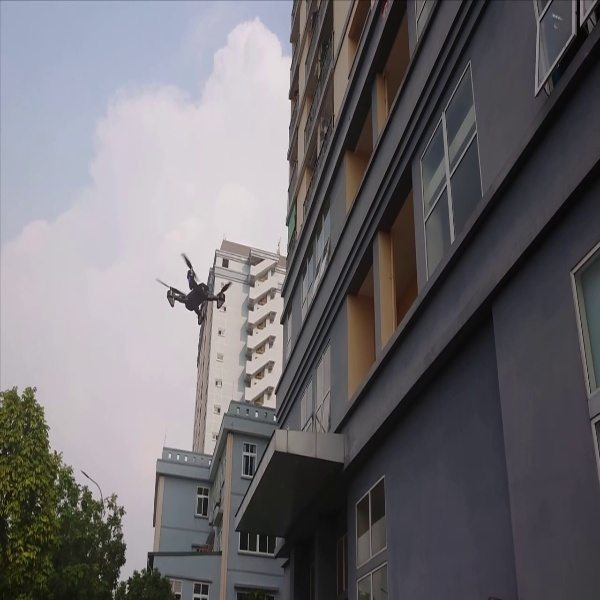drone: (150, 247, 235, 331)
